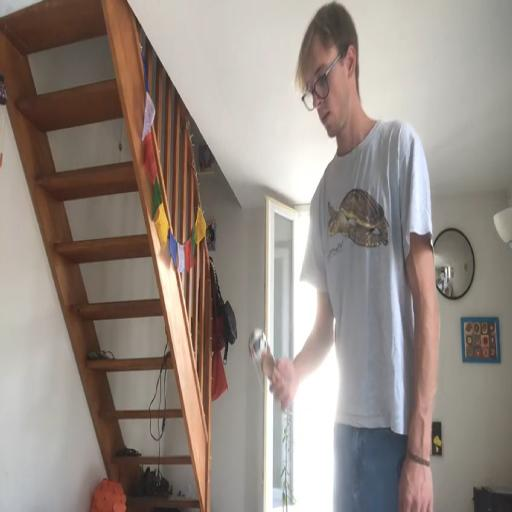kendama_ball: (248, 328, 267, 362)
